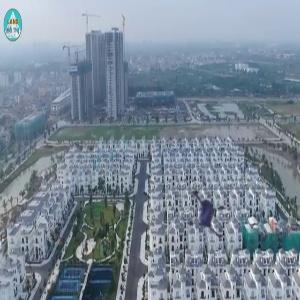drone: (171, 180, 232, 241)
